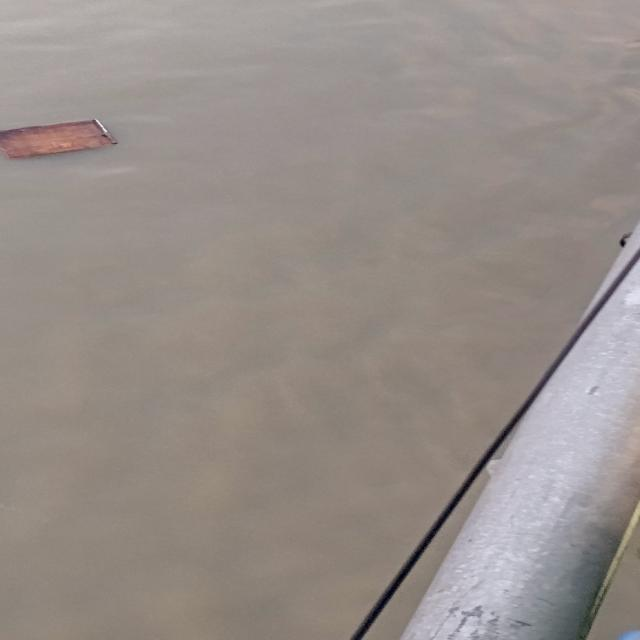Organic Debris: (0, 114, 120, 164)
